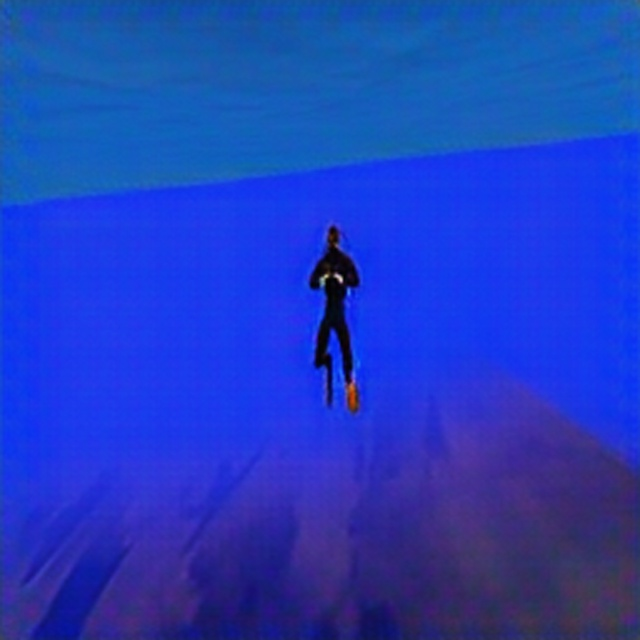diver: (311, 223, 366, 414)
